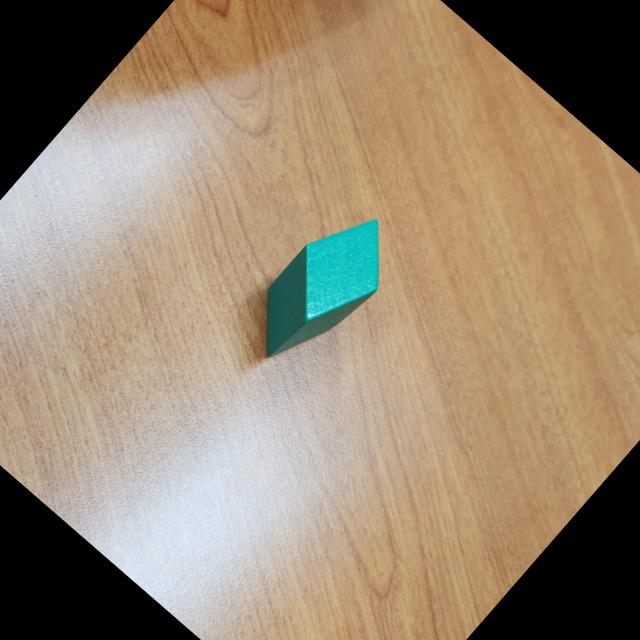green: (231, 192, 414, 384)
